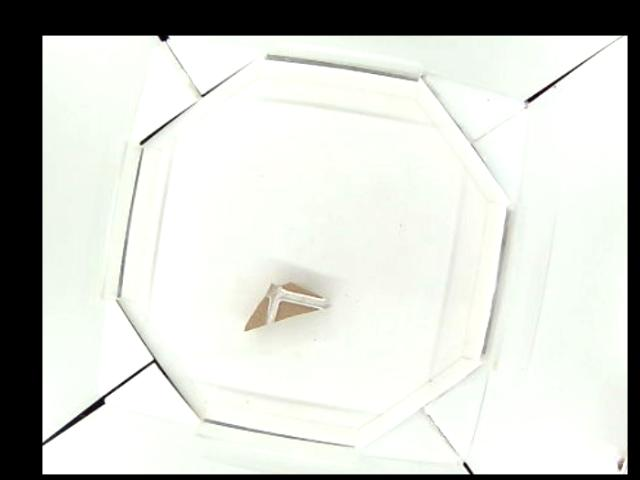China: (242, 284, 328, 332)
